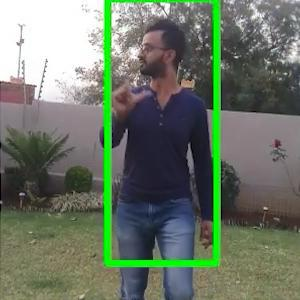land_hand: (99, 57, 148, 116)
